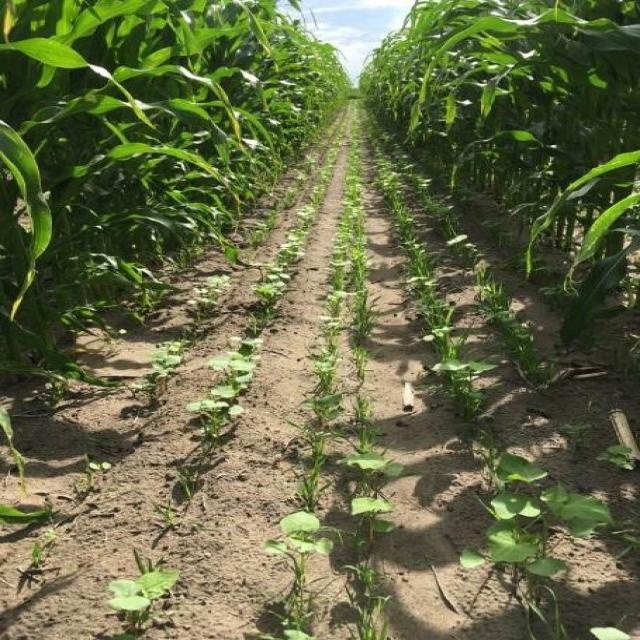row: (0, 92, 640, 637)
